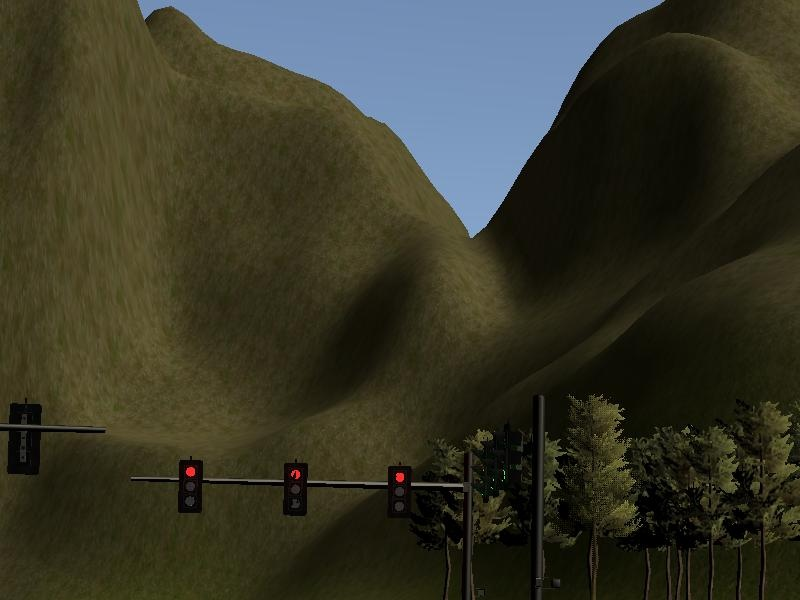red: (177, 461, 204, 515), (283, 464, 309, 516), (387, 466, 412, 519)
